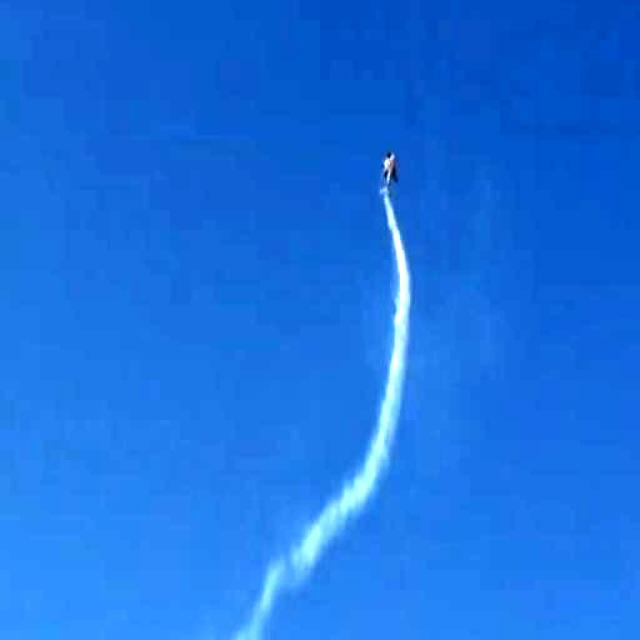drone: (379, 140, 400, 204)
